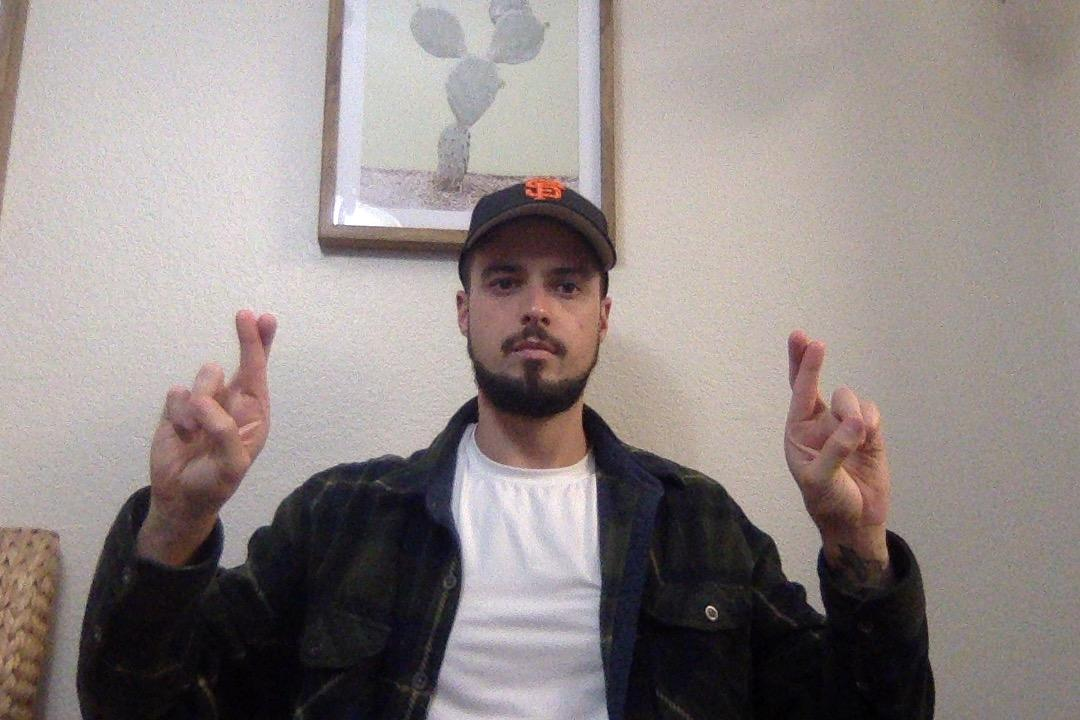Fingers-Crossed: (138, 287, 278, 542), (775, 323, 906, 569)
